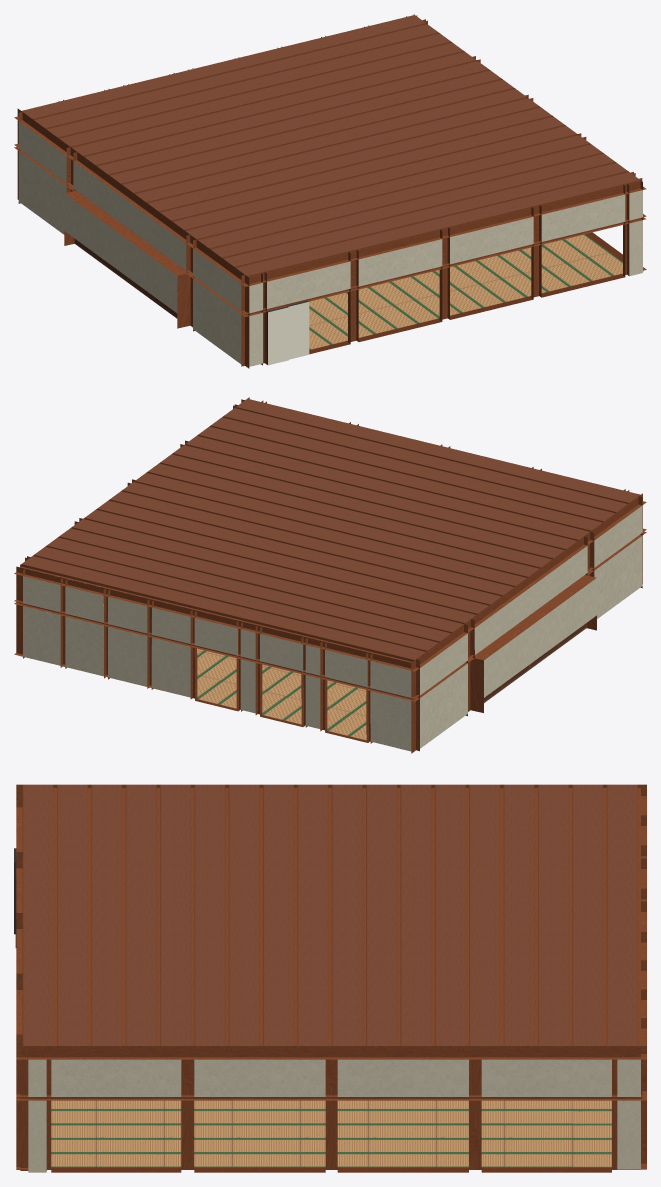
The model's file is map.fbx.
The picture shows the model from 3 angles, top to bottom: view 1: azimuth 30°, elevation 25°; view 2: azimuth 150°, elevation 25°; view 3: azimuth 270°, elevation 25°; orthographic projection. The views are drawn at different scales.
Visible parts, largest first — view 1: tenjyou, kabe, tatami, tenjyou_hasira, hasira_yoko, hasira_tate, yuka_ki, husuma_01, husuma_02, tana; view 2: tenjyou, kabe, tenjyou_hasira, hasira_yoko, hasira_tate, tatami, tana; view 3: tenjyou, tatami, kabe, tenjyou_hasira, hasira_yoko, hasira_tate, yuka_ki.
Boxes of the visible parts, bbox=[...] form: tenjyou: bbox=[22, 15, 640, 276]; kabe: bbox=[18, 121, 642, 366]; tatami: bbox=[190, 234, 622, 349]; tenjyou_hasira: bbox=[33, 23, 627, 267]; hasira_yoko: bbox=[14, 14, 646, 366]; hasira_tate: bbox=[17, 15, 642, 368]; yuka_ki: bbox=[263, 232, 626, 363]; husuma_01: bbox=[267, 306, 288, 365]; husuma_02: bbox=[287, 300, 309, 359]; tana: bbox=[74, 239, 177, 318]; tenjyou: bbox=[22, 398, 640, 659]; kabe: bbox=[23, 505, 642, 751]; tenjyou_hasira: bbox=[20, 407, 628, 662]; hasira_yoko: bbox=[14, 407, 646, 701]; hasira_tate: bbox=[16, 397, 642, 753]; tatami: bbox=[103, 604, 470, 741]; tana: bbox=[484, 623, 586, 702]; tenjyou: bbox=[22, 784, 637, 1045]; tatami: bbox=[51, 1100, 611, 1167]; kabe: bbox=[28, 1059, 640, 1172]; tenjyou_hasira: bbox=[53, 788, 640, 1045]; hasira_yoko: bbox=[16, 784, 646, 1170]; hasira_tate: bbox=[16, 784, 646, 1169]; yuka_ki: bbox=[47, 1167, 616, 1172].
Bounding box in the file's own units: 1669 × 356 × 1637.
Materials: 2 (2 with a texture image).
